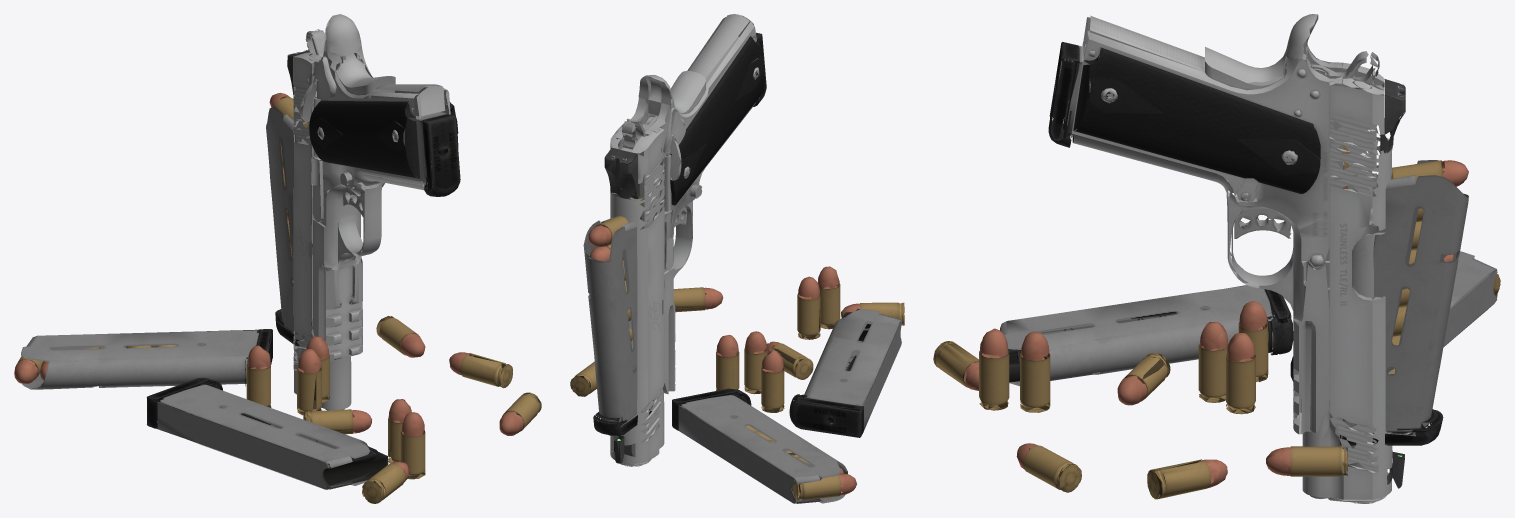
3 views of the same model, side by side, from view 1: azimuth 30°, elevation 25°; view 2: azimuth 150°, elevation 25°; view 3: azimuth 270°, elevation 25° (orthographic). The views are drawn at different scales.
Parts seen in each view (by area): view 1: merged; view 2: merged; view 3: merged.
Part boxes in pixels (bbox=[...]): merged: bbox=[14, 14, 541, 503]; merged: bbox=[570, 14, 904, 503]; merged: bbox=[933, 14, 1500, 503].
Size of the model in its own units: 9.71 by 9.65 by 10.33.
3 materials, 3 textured.
